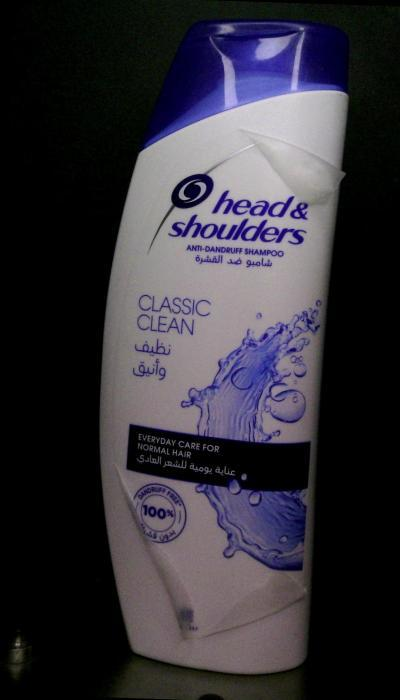adhesion_unacc: (108, 464, 201, 642), (232, 124, 347, 206), (200, 566, 307, 642)
